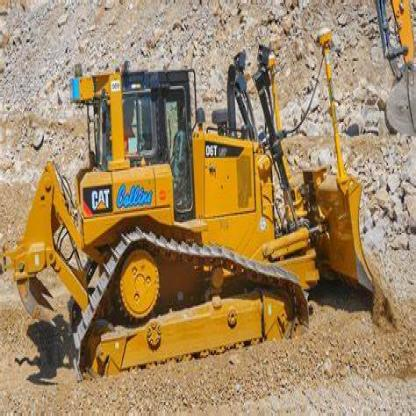bull_dozer/loader/grader: (15, 44, 399, 403)
